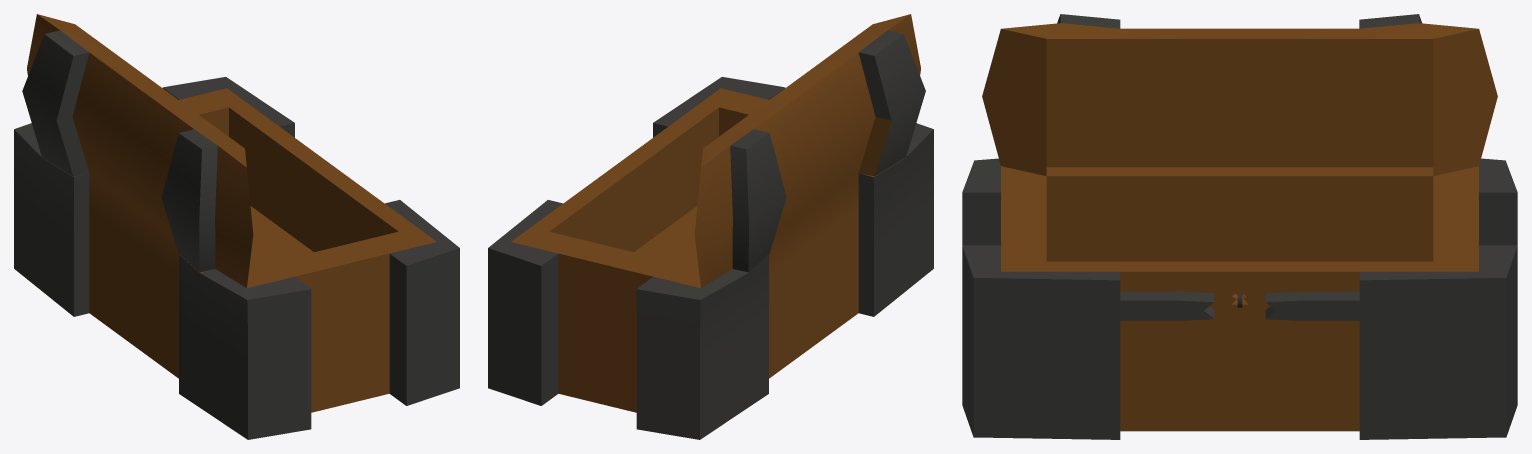
The model's file is chest.fbx.
3 renders of one model, left to right at view 1: azimuth 30°, elevation 25°; view 2: azimuth 150°, elevation 25°; view 3: azimuth 270°, elevation 25°, orthographic. The views are drawn at different scales.
Visible parts, largest first — view 1: Plane.001; view 2: Plane.001; view 3: Plane.001.
Part boxes in pixels (<box>): Plane.001: <box>14,14,459,439</box>; Plane.001: <box>488,14,933,439</box>; Plane.001: <box>962,14,1517,439</box>.
Bounding box in the file's own units: 195 × 206 × 345.
